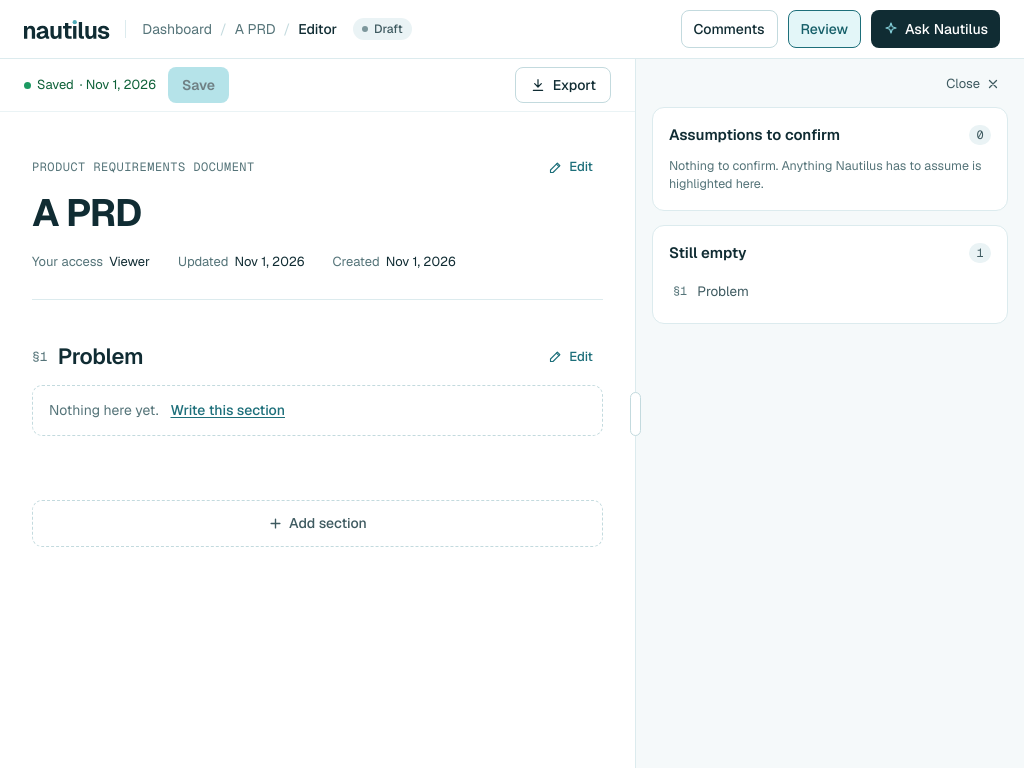
Test: EditorPage adding a section › offers only the missing sections and adds the one picked in its place
Click the button "Add section" at (317, 524), box [32,500,603,547]
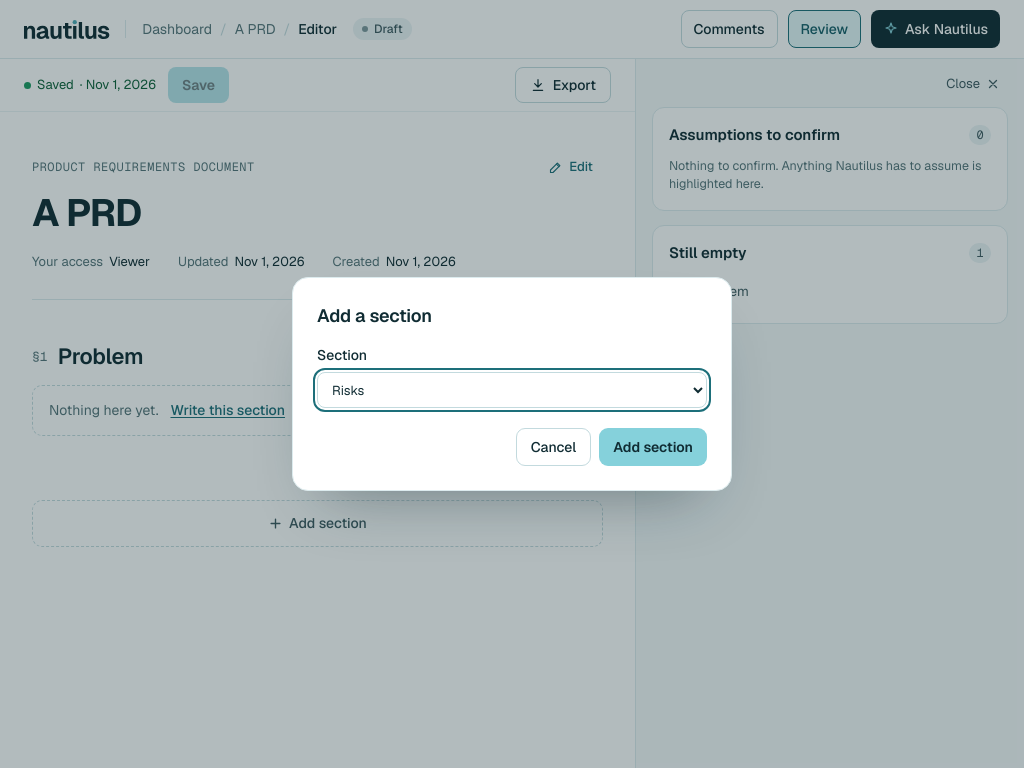
Select "Risks" in the dropdown labelled "Section" at (512, 390), box [317,372,707,408]
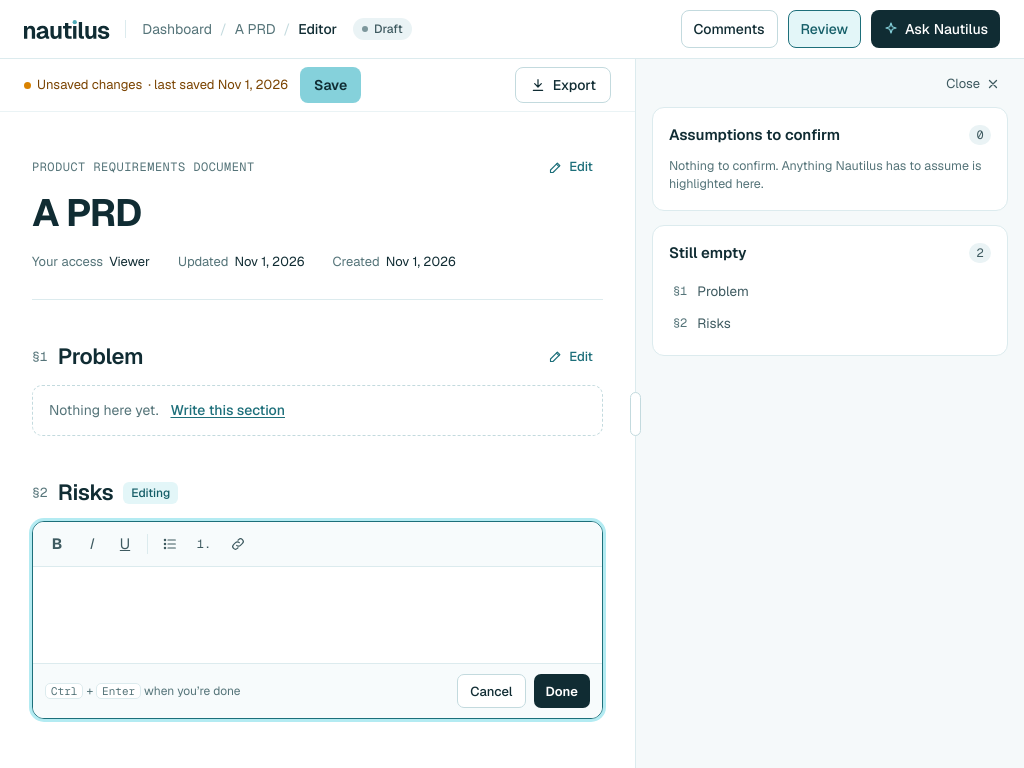
Check: the text "Editing" is shown, box [123,482,178,504]
